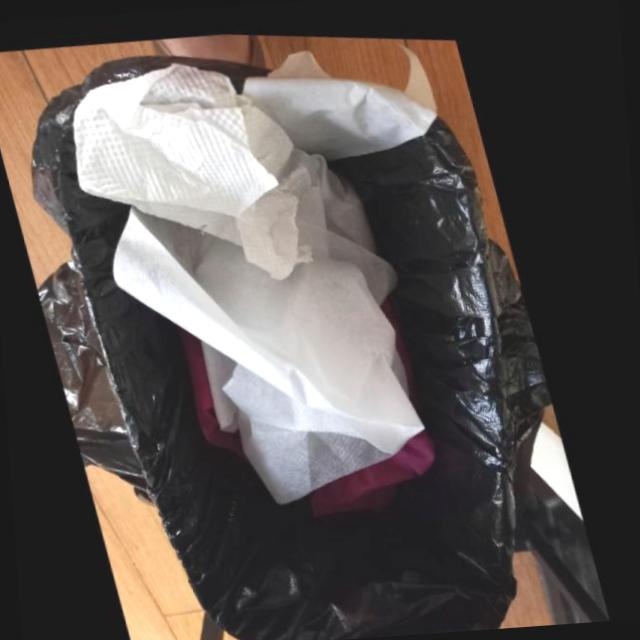giay: (119, 174, 427, 451), (207, 333, 412, 497)
